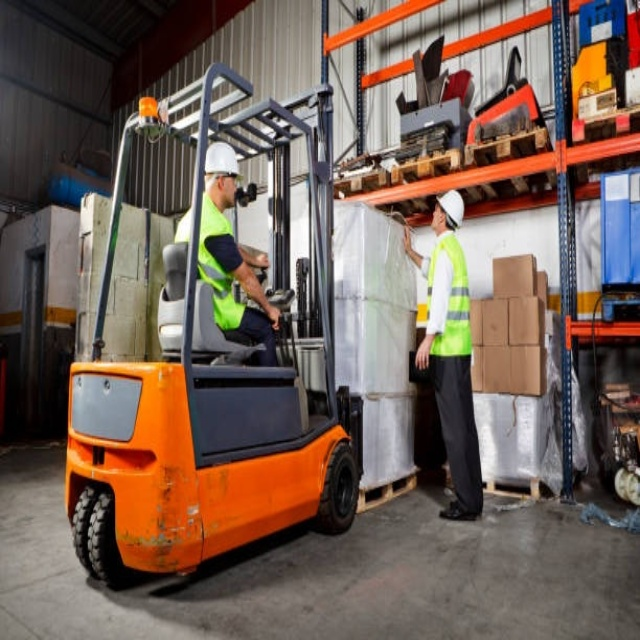Gafas: (212, 171, 242, 185)
Sin_guantes: (412, 334, 431, 372), (265, 305, 283, 328), (401, 224, 415, 251)
